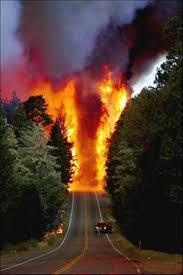fire: (27, 69, 135, 189)
